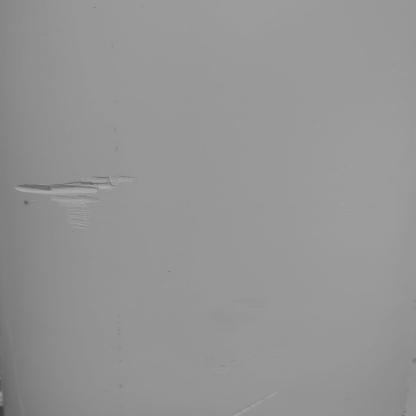sunshang: (16, 175, 143, 232), (229, 392, 278, 416)
